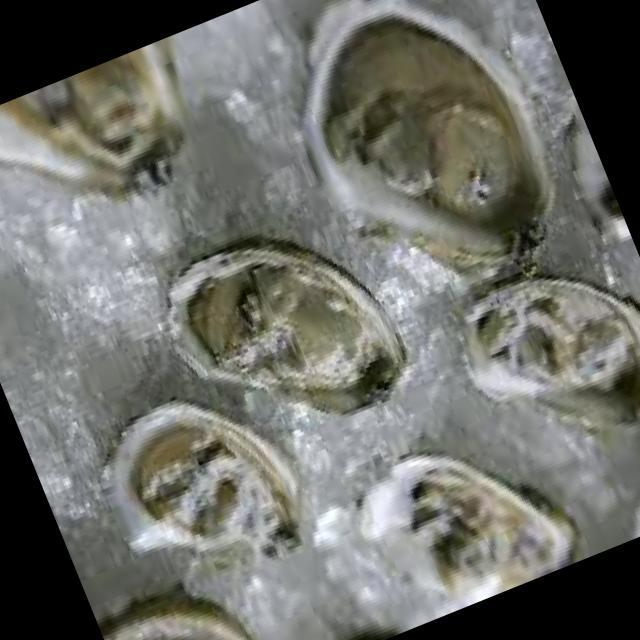Oyster-Open: (304, 15, 552, 276), (168, 240, 410, 417), (344, 456, 579, 637), (109, 403, 301, 568), (460, 280, 640, 426), (39, 43, 188, 195), (64, 582, 292, 640)
